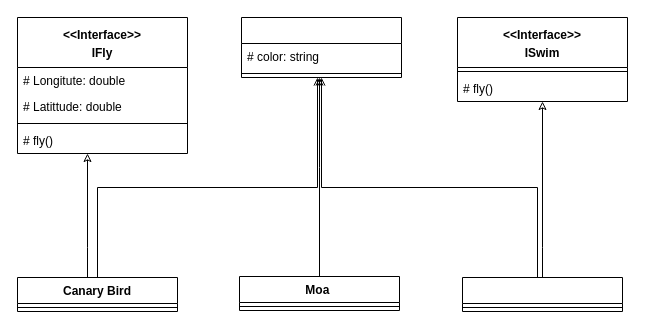
Image size: 645x329. Some labels were removed from this diagram. Here are the shapes that lost their labels. From the top down, the box of each, then its label:
(240, 16, 402, 78): Bird
(462, 276, 622, 312): Penguin
